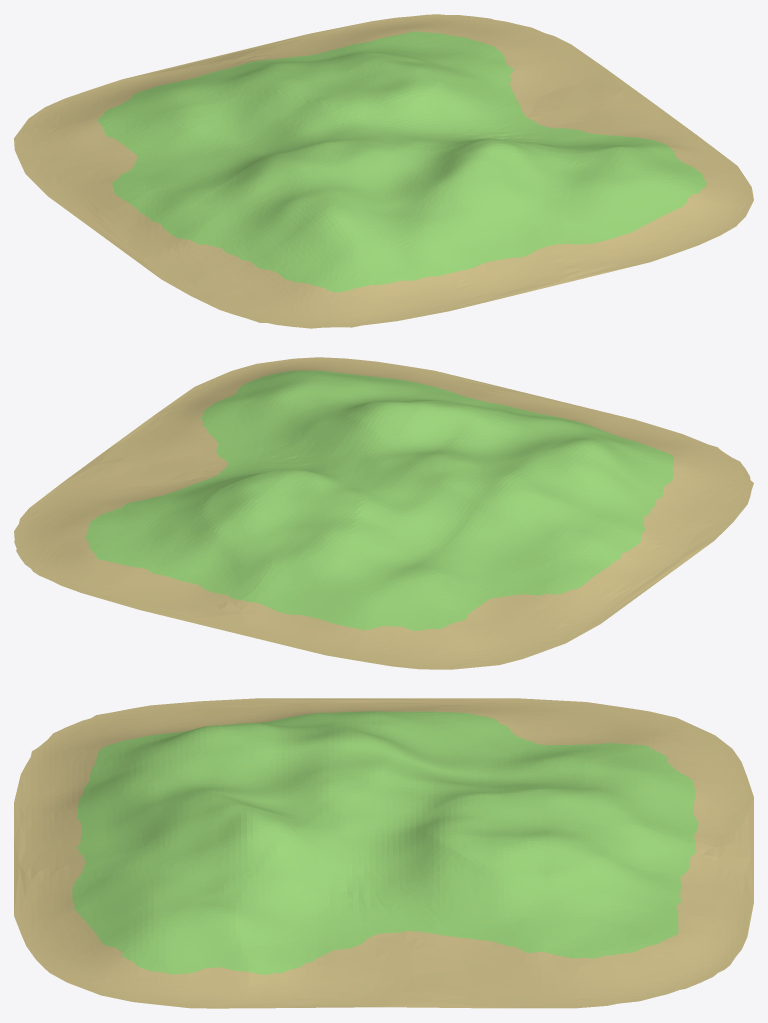
The model's file is CPT_Island_H_c_07_LOD.fbx.
3 views of the same model, one above another, from view 1: azimuth 30°, elevation 25°; view 2: azimuth 150°, elevation 25°; view 3: azimuth 270°, elevation 25° (orthographic). The views are drawn at different scales.
Visible parts, largest first — view 1: CPT_Island_H_c_07_LOD0; view 2: CPT_Island_H_c_07_LOD0; view 3: CPT_Island_H_c_07_LOD0.
Boxes of the visible parts, left/top/right/bottom form: CPT_Island_H_c_07_LOD0: left=14, top=14, right=753, bottom=328; CPT_Island_H_c_07_LOD0: left=14, top=357, right=753, bottom=669; CPT_Island_H_c_07_LOD0: left=14, top=698, right=753, bottom=1008.
Size of what is drawn, in the model's own units: 49622 by 4841 by 50000.
